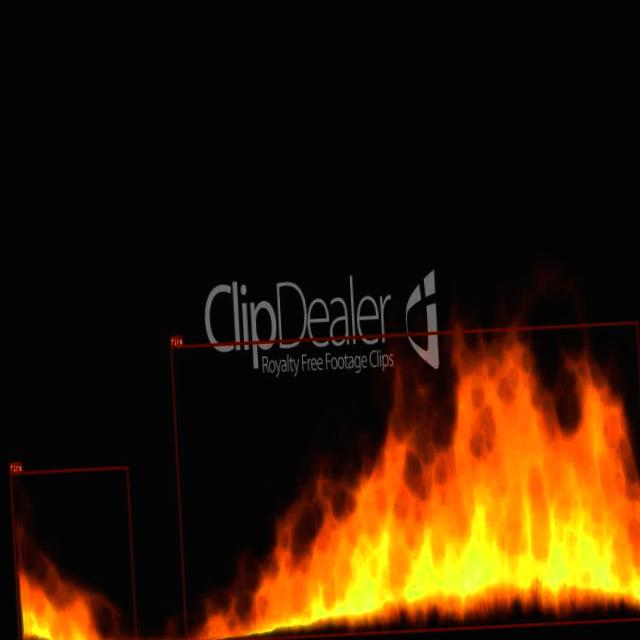fire: (170, 321, 640, 640), (9, 465, 136, 640)
